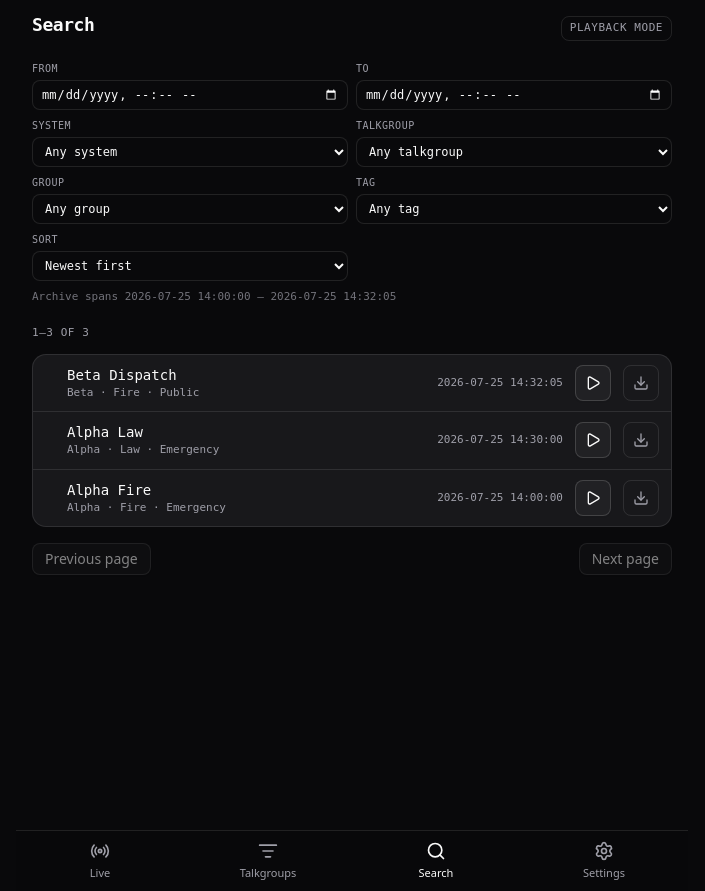
Test: SearchScreen › playback mode › asks for nothing beyond the last page
What coordinates should you click on to do the following:
click the button "Playback mode"
I would click on:
 (616, 28)
Its box is [561,16,672,41].
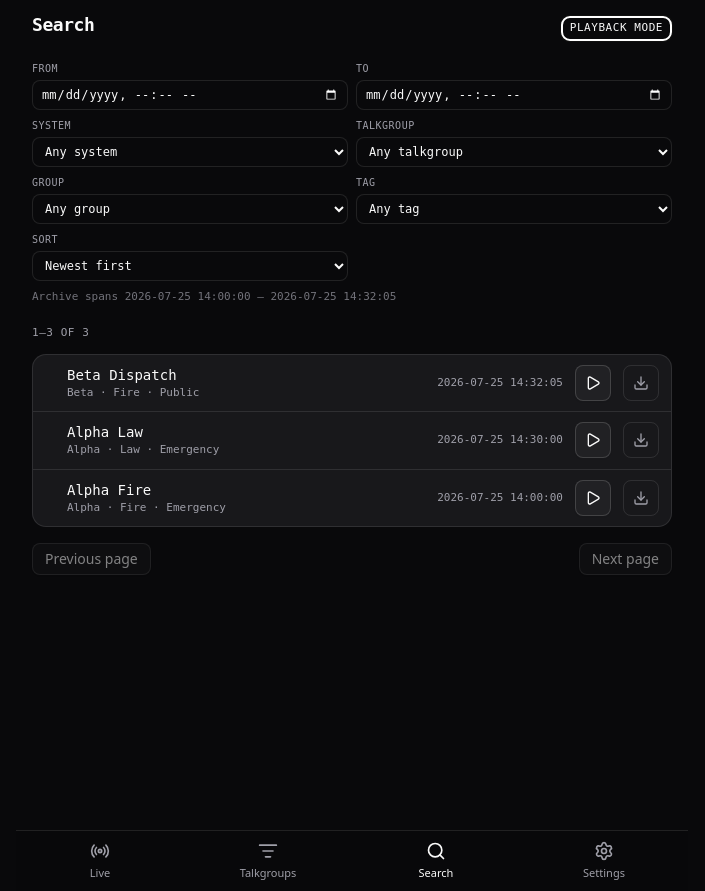
What coordinates should you click on to do the following:
click the button named "Play "
I would click on:
 (593, 383)
Its box is [575,365,611,401].
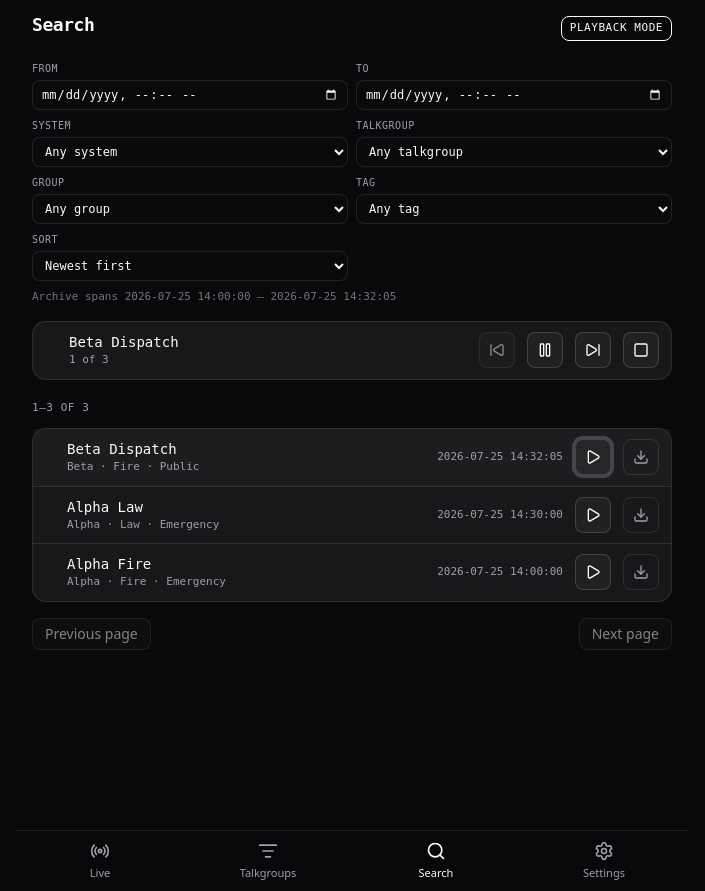
Check: the text "1 of 3" is shown, box [69,353,109,366]
